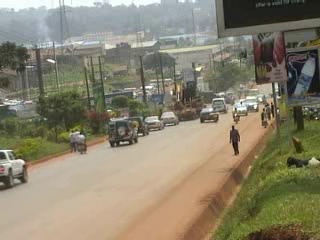Car: (104, 115, 140, 148), (125, 114, 151, 140), (197, 105, 222, 125), (142, 112, 165, 133), (159, 108, 180, 128), (229, 101, 248, 119)
Motorcycle: (72, 129, 90, 155), (232, 105, 243, 124), (259, 93, 268, 106)
